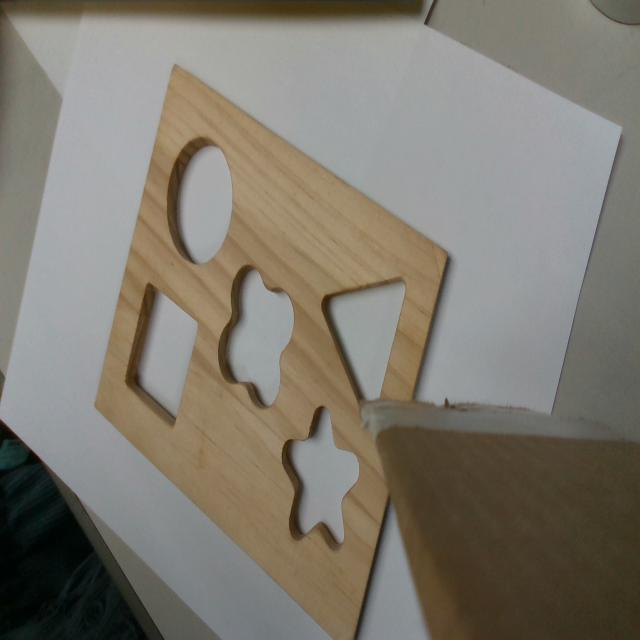circle: (168, 138, 236, 262)
flower: (219, 264, 294, 410)
square: (126, 281, 200, 426)
star: (282, 407, 360, 546)
triangle: (321, 273, 408, 413)
